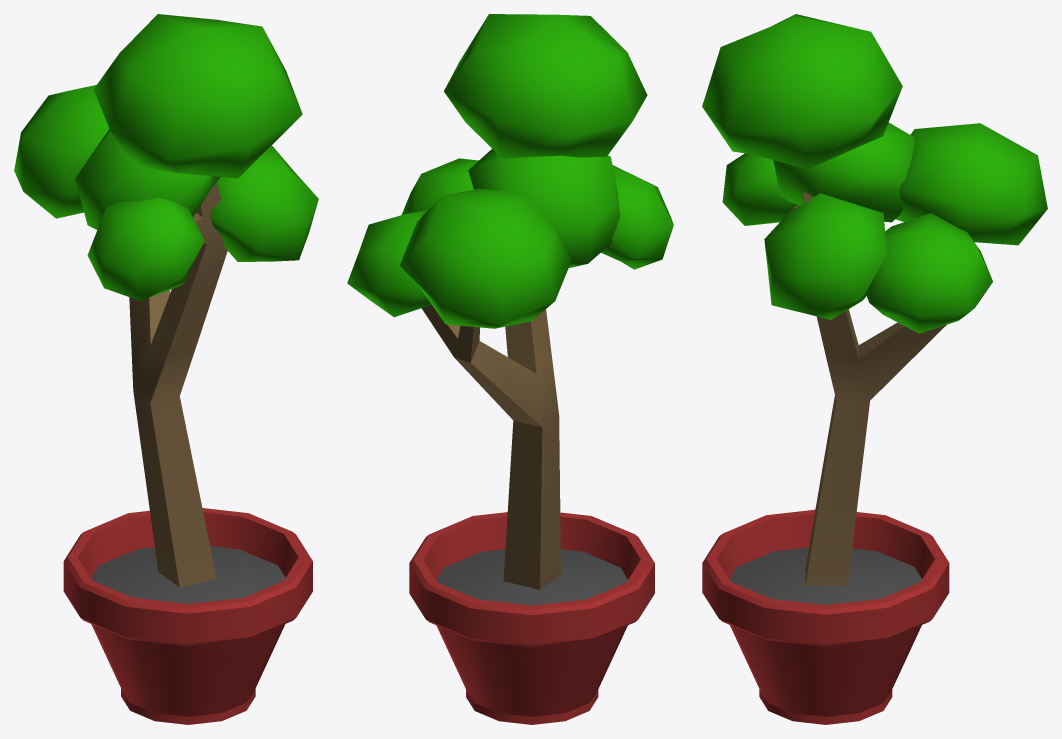
The model's file is plant.fbx.
3 renders of one model, left to right at view 1: azimuth 30°, elevation 25°; view 2: azimuth 150°, elevation 25°; view 3: azimuth 270°, elevation 25°, orthographic.
Visible parts, largest first — view 1: Leaves, PlantPot, Stem, Dirt; view 2: Leaves, PlantPot, Stem, Dirt; view 3: Leaves, PlantPot, Stem, Dirt.
Boxes of the visible parts, left/top/right/bottom form: Leaves: left=14, top=14, right=318, bottom=301; PlantPot: left=63, top=508, right=312, bottom=724; Stem: left=129, top=182, right=227, bottom=587; Dirt: left=91, top=546, right=285, bottom=603; Leaves: left=347, top=14, right=673, bottom=328; PlantPot: left=409, top=512, right=654, bottom=724; Stem: left=421, top=305, right=560, bottom=590; Dirt: left=436, top=549, right=627, bottom=605; Leaves: left=702, top=14, right=1047, bottom=333; PlantPot: left=702, top=509, right=949, bottom=724; Stem: left=790, top=191, right=946, bottom=585; Dirt: left=729, top=547, right=922, bottom=604.
Size of the model in its own units: 73.87 by 201 by 93.13.
